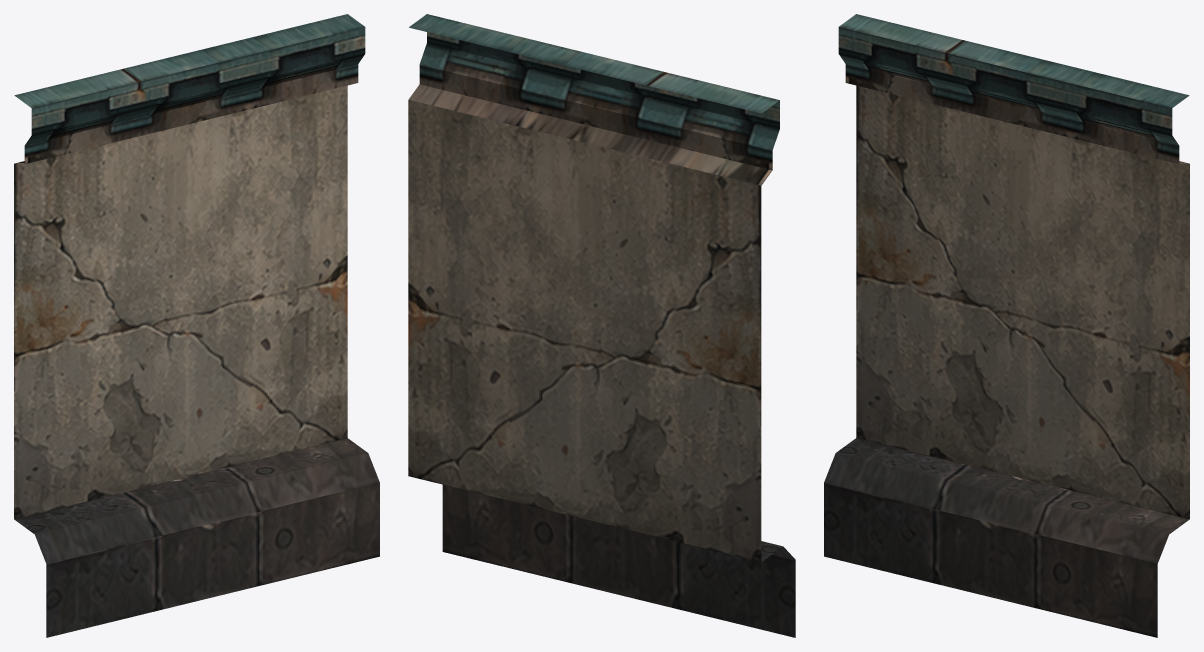
The model's file is wall_concrete_3.fbx.
3 views of the same model, side by side, from view 1: azimuth 30°, elevation 25°; view 2: azimuth 150°, elevation 25°; view 3: azimuth 330°, elevation 25° (orthographic). The views are drawn at different scales.
Parts seen in each view (by area): view 1: wall_concrete_3; view 2: wall_concrete_3; view 3: wall_concrete_3.
Part boxes in pixels (x1,y1,x2,y2): wall_concrete_3: (14, 14, 379, 637); wall_concrete_3: (408, 14, 795, 637); wall_concrete_3: (824, 14, 1189, 637).
Size of the model in its own units: 3 by 4.46 by 0.5012.
